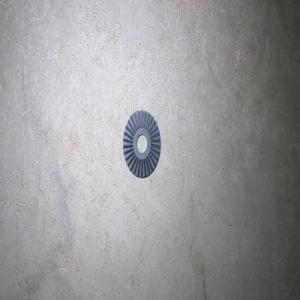Washer: (122, 110, 160, 178)
